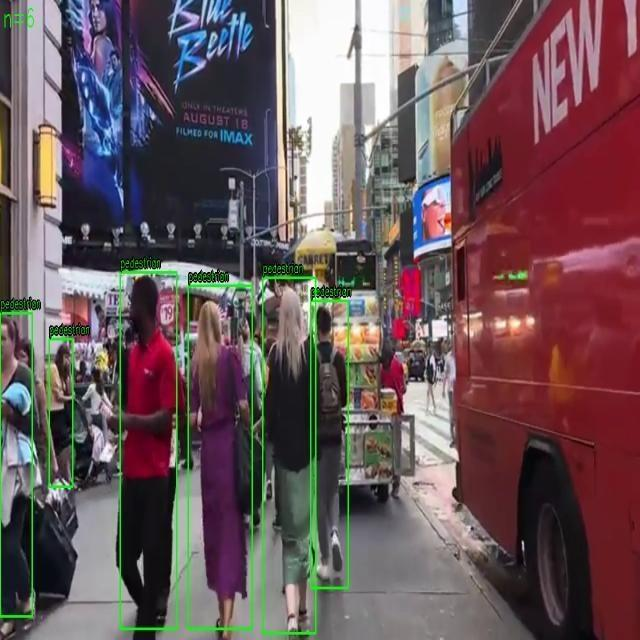person: (188, 286, 252, 630), (120, 272, 177, 630), (262, 277, 316, 634), (311, 301, 348, 588), (0, 313, 32, 617), (49, 339, 73, 487)
